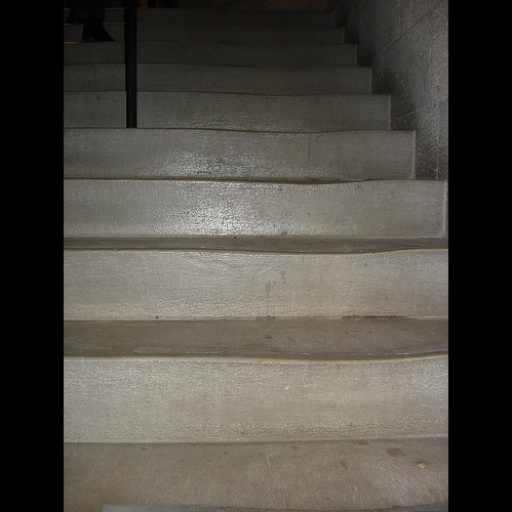Stairs: (66, 10, 447, 443)
